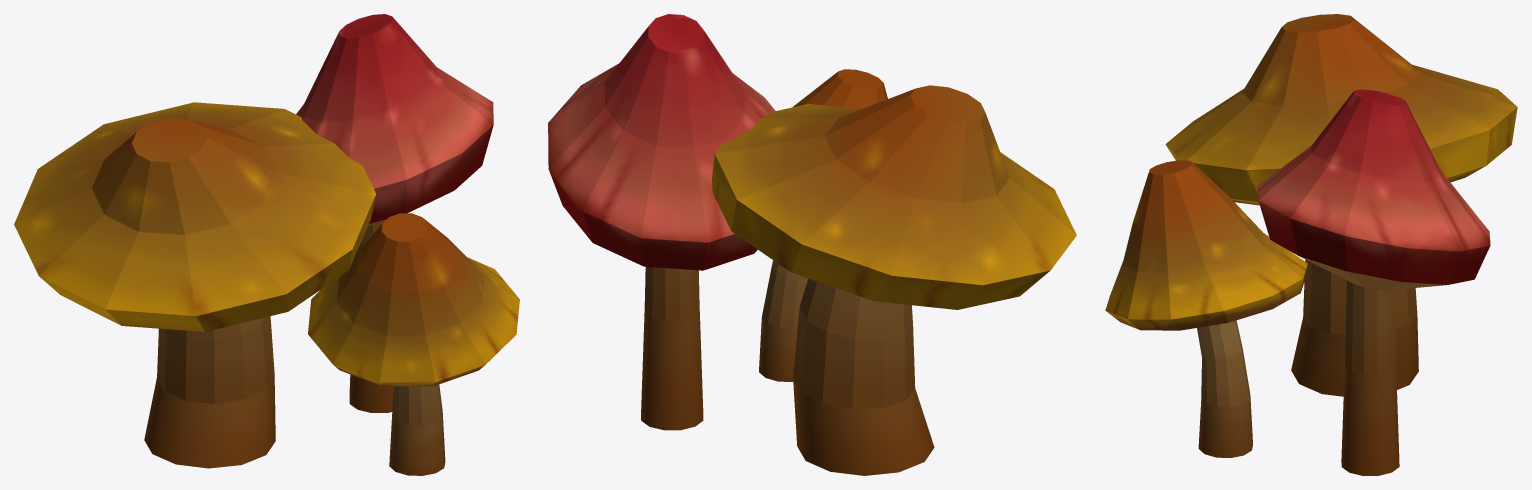
File: mushroom_3.fbx
3 views of the same model, side by side, from view 1: azimuth 30°, elevation 25°; view 2: azimuth 150°, elevation 25°; view 3: azimuth 270°, elevation 25° (orthographic). The views are drawn at different scales.
Visible parts, largest first — view 1: mushroom_3; view 2: mushroom_3; view 3: mushroom_3.
Boxes of the visible parts, x1,y1,x2,y2 form: mushroom_3: (14,14,519,475); mushroom_3: (548,14,1076,475); mushroom_3: (1105,14,1517,475).
Bounding box in the file's own units: 0.5879 × 0.4732 × 0.4781.
